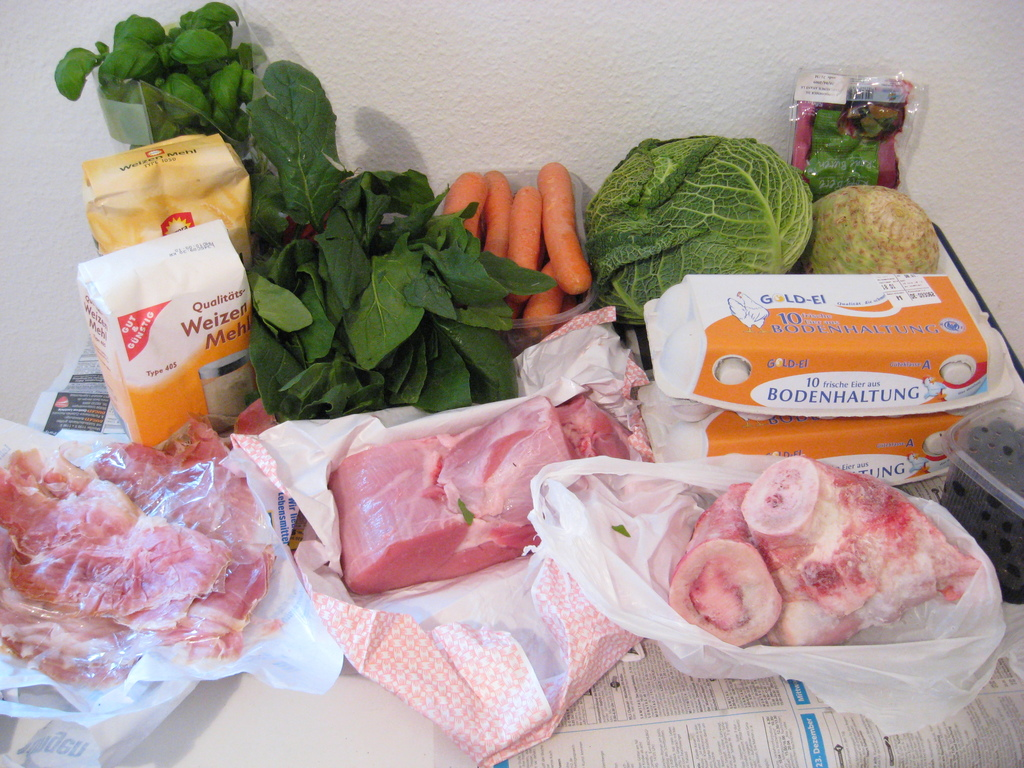Cabbage: (582, 134, 813, 325)
